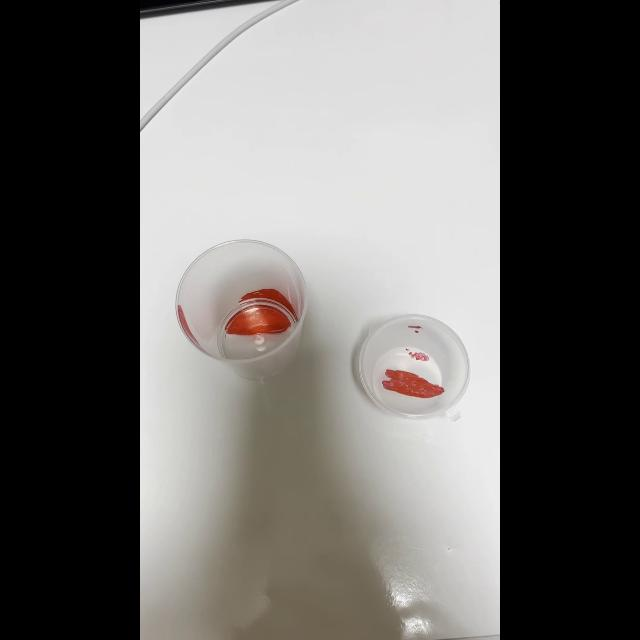dirty: (173, 237, 304, 365), (357, 309, 471, 425)
